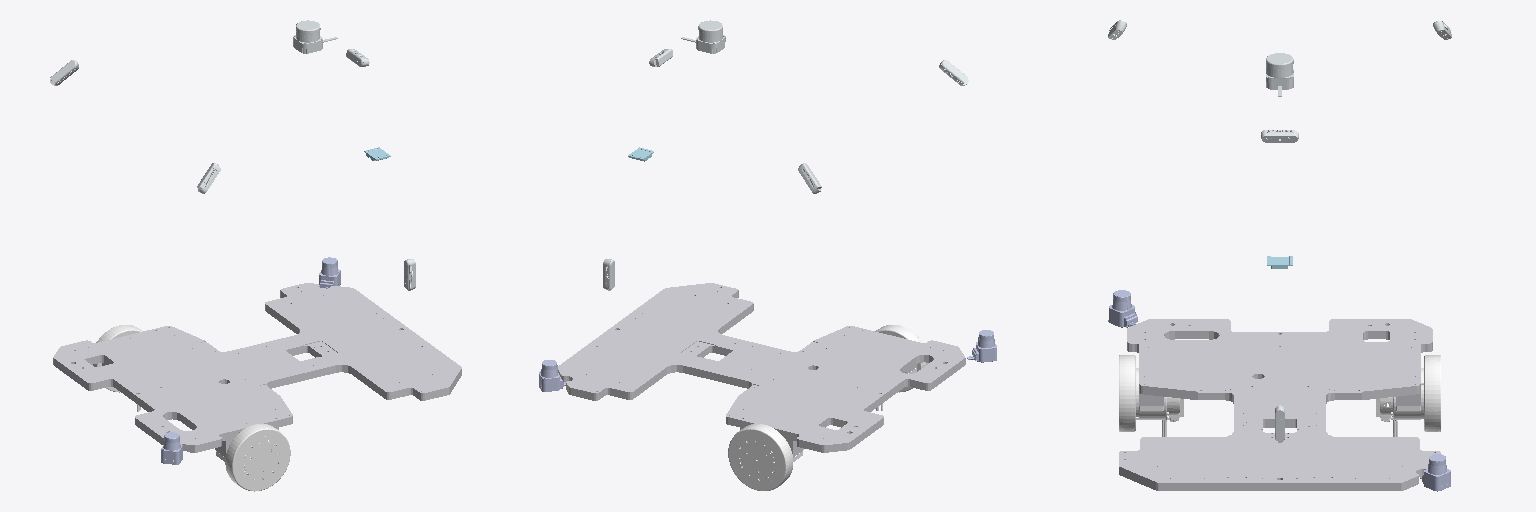
URDF robot description (clean_robot):
<?xml version="1.0" encoding="utf-8"?>
<!-- This URDF was automatically created by SolidWorks to URDF Exporter! Originally created by Stephen Brawner (brawner@gmail.com) 
     Commit Version: 1.5.1-0-g916b5db  Build Version: 1.5.7152.31018
     For more information, please see http://wiki.ros.org/sw_urdf_exporter -->
<robot name="clean_robot">
  <link name="base_footprint">
  </link>
  <joint name="base_footprint_joint" type="fixed">
    <parent link="base_footprint"/>
    <child link="base_link"/>
  </joint>
  <link name="rotateCentral">
  </link>
  <joint name="rotateCentral_joint" type="fixed">
    <origin xyz="-0.21 0 -0.057" rpy="0 0 0" />
    <axis xyz="0 1 0" />
    <parent link="base_link"/>
    <child link="rotateCentral"/>
  </joint>
  <link name="base_link">
    <inertial>
      <origin xyz="0.00240726108493841 0.000418202039983564 0.00979407155909989" rpy="0 0 0" />
      <mass value="28.1386020223436" />
      <inertia ixx="1.02468969743477" ixy="0.0158941047042103" ixz="-0.00370358705210533" iyy="2.18751601311466" iyz="-2.28678674738598E-05" izz="3.20778172827221" />
    </inertial>
    <visual>
      <origin xyz="0 0 0" rpy="0 0 0" />
      <geometry>
        <mesh filename="package://clean_robot_urdf/meshes/base_link.STL" />
      </geometry>
      <material name="">
        <color rgba="0.866666666666667 0.866666666666667 0.890196078431372 1" />
      </material>
    </visual>
    <collision>
      <origin xyz="0 0 0" rpy="0 0 0" />
      <geometry>
        <mesh filename="package://clean_robot_urdf/meshes/base_link.STL" />
      </geometry>
    </collision>
  </link>
  <link name="left_wheel_link">
    <inertial>
      <origin xyz="-4.0925E-05 -0.023024 -0.00050223" rpy="0 0 0" />
      <mass value="1.0564" />
      <inertia ixx="0.0039835" ixy="-2.5313E-06" ixz="-2.7501E-06" iyy="0.004638" iyz="-3.3138E-05" izz="0.0041315" />
    </inertial>
    <visual>
      <origin xyz="0 0 0" rpy="0 0 0" />
      <geometry>
        <mesh filename="package://clean_robot_urdf/meshes/left_wheel.STL" />
      </geometry>
      <material name="">
        <color rgba="1 1 1 1" />
      </material>
    </visual>
    <collision>
      <origin xyz="0 0 0" rpy="0 0 0" />
      <geometry>
        <mesh filename="package://clean_robot_urdf/meshes/left_wheel.STL" />
      </geometry>
    </collision>
  </link>
  <joint name="left_wheel_joint" type="continuous">
    <origin xyz="-0.21 0.35525 -0.057" rpy="0 0 0" />
    <parent link="base_link" />
    <child link="left_wheel_link" />
    <axis xyz="0 1 0" />
    <limit lower="-3.14" upper="3.14" effort="100" velocity="1" />
  </joint>
  <link name="right_wheel_link">
    <inertial>
      <origin xyz="4.0925E-05 0.023024 -0.00050223" rpy="0 0 0" />
      <mass value="1.0564" />
      <inertia ixx="0.0039835" ixy="-2.5313E-06" ixz="2.7501E-06" iyy="0.004638" iyz="3.3138E-05" izz="0.0041315" />
    </inertial>
    <visual>
      <origin xyz="0 0 0" rpy="0 0 0" />
      <geometry>
        <mesh filename="package://clean_robot_urdf/meshes/right_wheel.STL" />
      </geometry>
      <material name="">
        <color rgba="1 1 1 1" />
      </material>
    </visual>
    <collision>
      <origin xyz="0 0 0" rpy="0 0 0" />
      <geometry>
        <mesh filename="package://clean_robot_urdf/meshes/right_wheel.STL" />
      </geometry>
    </collision>
  </link>
  <joint name="right_wheel_joint" type="continuous">
    <origin xyz="-0.21 -0.35525 -0.057" rpy="0 0 0" />
    <parent link="base_link" />
    <child link="right_wheel_link" />
    <axis xyz="0 1 0" />
    <limit lower="-3.14" upper="3.14" effort="100" velocity="1" />
  </joint>
  <link name="gyro_link">
    <inertial>
      <origin xyz="3.1965E-05 -1.3878E-17 0.0060316" rpy="0 0 0" />
      <mass value="0.02361" />
      <inertia ixx="5.4191E-06" ixy="5.5519E-21" ixz="1.8141E-09" iyy="4.3874E-06" iyz="7.0038E-21" izz="9.3231E-06" />
    </inertial>
    <visual>
      <origin xyz="0 0 0" rpy="0 0 0" />
      <geometry>
        <mesh filename="package://clean_robot_urdf/meshes/gyro.STL" />
      </geometry>
      <material name="">
        <color rgba="0.74118 0.90196 0.95686 1" />
      </material>
    </visual>
    <collision>
      <origin xyz="0 0 0" rpy="0 0 0" />
      <geometry>
        <mesh filename="package://clean_robot_urdf/meshes/gyro.STL" />
      </geometry>
    </collision>
  </link>
  <joint name="gyro_joint" type="fixed"> 
    <!-- <origin xyz="0.09075 0.234 0.5377" rpy="0 0 0" /> -->
    <!-- <origin xyz="0.09075 0.234 0.5377" rpy="0 0 1.5708" /> -->
    <origin xyz="0.358 0 0.5377" rpy="0 0 0" />
    <!-- <origin xyz="0 0 0" rpy="0 0 1.5708" /> -->
     <!-- <origin xyz="0 0 0" rpy="0 0 3.14" /> -->
    <parent link="base_link" /> 
    <child link="gyro_link" />
    <axis xyz="0 0 0" /> 
    <limit lower="-3.14" upper="3.14" effort="100" velocity="1" />
  </joint>
  <link name="front_laser">
    <inertial>
      <origin xyz="-0.550525948072943 0.0400079398991852 0.235547624375764" rpy="0 0 0" />
      <mass value="292.649704989435" />
      <inertia ixx="44.0373395468623" ixy="2.81633498450796" ixz="1.66357751279977" iyy="43.7828032777511" iyz="-2.18059444316504" izz="37.7889157054444" />
    </inertial>
    <visual>
      <origin xyz="0 0 0" rpy="0 0 0" />
      <geometry>
        <mesh filename="package://clean_robot_urdf/meshes/front_laser.STL" />
      </geometry>
      <material name="">
        <color rgba="0.792156862745098 0.819607843137255 0.933333333333333 1" />
      </material>
    </visual>
    <collision>
      <origin xyz="0 0 0" rpy="0 0 0" />
      <geometry>
        <mesh filename="package://clean_robot_urdf/meshes/front_laser.STL" />
      </geometry>
    </collision>
  </link>
  <joint name="front_laser" type="fixed">
    <origin xyz="0.42468 0.36619 0.0495" rpy="0 0 0.7854" />
    <parent link="base_link" />
    <child link="front_laser" />
    <axis xyz="0 0 0" />
    <limit lower="-3.14" upper="3.14" effort="100" velocity="1" />
  </joint>
  <link name="back_laser">
    <inertial>
      <origin xyz="-0.606063155895012 0.0792949530645376 0.235547624375765" rpy="0 0 0" />
      <mass value="292.649704989435" />
      <inertia ixx="44.0373395468623" ixy="2.81633498450796" ixz="-1.66357751279979" iyy="43.7828032777511" iyz="2.18059444316503" izz="37.7889157054444" />
    </inertial>
    <visual>
      <origin xyz="0 0 0" rpy="0 0 0" />
      <geometry>
        <mesh filename="package://clean_robot_urdf/meshes/back_laser.STL" />
      </geometry>
      <material name="">
        <color rgba="0.792156862745098 0.819607843137255 0.933333333333333 1" />
      </material>
    </visual>
    <collision>
      <origin xyz="0 0 0" rpy="0 0 0" />
      <geometry>
        <mesh filename="package://clean_robot_urdf/meshes/back_laser.STL" />
      </geometry>
    </collision>
  </link>
  <joint name="back_laser" type="fixed">
    <origin xyz="-0.47752 -0.36729 0.0495" rpy="0 0 -2.3562" />
    <parent link="base_link" />
    <child link="back_laser" />
    <axis xyz="0 0 0" />
    <limit lower="-3.14" upper="3.14" effort="100" velocity="1" />
  </joint>
  <link name="left_camera">
    <inertial>
      <origin xyz="-0.0141516366925666 -3.26056080095505E-05 0.00213468650215209" rpy="0 0 0" />
      <mass value="0.0330606537395875" />
      <inertia ixx="2.18493760077461E-05" ixy="-6.17717819624996E-09" ixz="1.25370444127801E-07" iyy="2.18264141606428E-05" iyz="-1.50421742192633E-09" izz="3.29669338756779E-06" />
    </inertial>
    <visual>
      <origin xyz="0 0 0" rpy="0 0 0" />
      <geometry>
        <mesh filename="package://clean_robot_urdf/meshes/left_camera.STL" />
      </geometry>
      <material name="">
        <color rgba="0.898039215686275 0.917647058823529 0.929411764705882 1" />
      </material>
    </visual>
    <collision>
      <origin xyz="0 0 0" rpy="0 0 0" />
      <geometry>
        <mesh filename="package://clean_robot_urdf/meshes/left_camera.STL" />
      </geometry>
    </collision>
  </link>
  <joint name="left_camera" type="fixed">
    <origin xyz="-0.36459 0.38251 0.79049" rpy="0.59889 0.72678 0.47536" />
    <parent link="base_link" />
    <child link="left_camera" />
    <axis xyz="0 0 0" />
    <limit lower="-3.14" upper="3.14" effort="100" velocity="1" />
  </joint>
  <link name="right_camera">
    <inertial>
      <origin xyz="-0.0141516361666065 -3.26036350821735E-05 0.00213466768908482" rpy="0 0 0" />
      <mass value="0.0330606483873418" />
      <inertia ixx="2.18493477974992E-05" ixy="-6.17679741189438E-09" ixz="1.25366332467947E-07" iyy="2.18263835224402E-05" iyz="-1.50439378133062E-09" izz="3.29669552730337E-06" />
    </inertial>
    <visual>
      <origin xyz="0 0 0" rpy="0 0 0" />
      <geometry>
        <mesh filename="package://clean_robot_urdf/meshes/right_camera.STL" />
      </geometry>
      <material name="">
        <color rgba="0.898039215686275 0.917647058823529 0.929411764705882 1" />
      </material>
    </visual>
    <collision>
      <origin xyz="0 0 0" rpy="0 0 0" />
      <geometry>
        <mesh filename="package://clean_robot_urdf/meshes/right_camera.STL" />
      </geometry>
    </collision>
  </link>
  <joint name="right_camera" type="fixed">
    <origin xyz="-0.36449 -0.38247 0.79057" rpy="-0.59889 0.72678 -0.47536" />
    <parent link="base_link" />
    <child link="right_camera" />
    <axis xyz="0 0 0" />
    <limit lower="-3.14" upper="3.14" effort="100" velocity="1" />
  </joint>
  <link name="up_camera">
    <inertial>
      <origin xyz="-0.0141516243722175 -3.26096145666366E-05 0.00213464076433513" rpy="0 0 0" />
      <mass value="0.0330606354180295" />
      <inertia ixx="2.1849341566882E-05" ixy="-6.17921287204605E-09" ixz="1.25356970547292E-07" iyy="2.18263739734521E-05" iyz="-1.49626199314348E-09" izz="3.29669412757788E-06" />
    </inertial>
    <visual>
      <origin xyz="0 0 0" rpy="0 0 0" />
      <geometry>
        <mesh filename="package://clean_robot_urdf/meshes/up_camera.STL" />
      </geometry>
      <material name="">
        <color rgba="0.898039215686275 0.917647058823529 0.929411764705882 1" />
      </material>
    </visual>
    <collision>
      <origin xyz="0 0 0" rpy="0 0 0" />
      <geometry>
        <mesh filename="package://clean_robot_urdf/meshes/up_camera.STL" />
      </geometry>
    </collision>
  </link>
  <joint name="up_camera" type="fixed">
    <origin xyz="0.30874 0 0.83696" rpy="1.5708 0.20944 0" />
    <parent link="base_link" />
    <child link="up_camera" />
    <axis xyz="0 0 0" />
    <limit lower="-3.14" upper="3.14" effort="100" velocity="1" />
  </joint>
  <link name="down_camera">
    <inertial>
      <origin xyz="-0.0141516246150703 -3.2608990155269E-05 0.00213463913380307" rpy="0 0 0" />
      <mass value="0.0330606407134946" />
      <inertia ixx="2.18493246164614E-05" ixy="-6.1789784629534E-09" ixz="1.25354729142066E-07" iyy="2.18263555001382E-05" iyz="-1.49709330581095E-09" izz="3.29669547205362E-06" />
    </inertial>
    <visual>
      <origin xyz="0 0 0" rpy="0 0 0" />
      <geometry>
        <mesh filename="package://clean_robot_urdf/meshes/down_camera.STL" />
      </geometry>
      <material name="">
        <color rgba="0.898039215686275 0.917647058823529 0.929411764705882 1" />
      </material>
    </visual>
    <collision>
      <origin xyz="0 0 0" rpy="0 0 0" />
      <geometry>
        <mesh filename="package://clean_robot_urdf/meshes/down_camera.STL" />
      </geometry>
    </collision>
  </link>
  <joint name="down_camera" type="fixed">
    <origin xyz="0.468 0 0.17399" rpy="0 0 0" />
    <parent link="base_link" />
    <child link="down_camera" />
    <axis xyz="0 0 0" />
    <limit lower="-3.14" upper="3.14" effort="100" velocity="1" />
  </joint>
  <link name="laser">
    <inertial>
      <origin xyz="4.01377249381607E-07 -0.0004029337120008 -0.0123695383858642" rpy="0 0 0" />
      <mass value="0.231565199535219" />
      <inertia ixx="0.000154249816516349" ixy="3.19274550737147E-09" ixz="1.57803601278125E-09" iyy="0.000148311975446975" iyz="-2.12876270026058E-06" izz="0.000139022675797784" />
    </inertial>
    <visual>
      <origin xyz="0 0 0" rpy="0 0 0" />
      <geometry>
        <mesh filename="package://clean_robot_urdf/meshes/laser.STL" />
      </geometry>
      <material name="">
        <color rgba="0.898039215686275 0.917647058823529 0.929411764705882 1" />
      </material>
    </visual>
    <collision>
      <origin xyz="0 0 0" rpy="0 0 0" />
      <geometry>
        <mesh filename="package://clean_robot_urdf/meshes/laser.STL" />
      </geometry>
    </collision>
  </link>
  <joint name="laser_joint" type="fixed">
    <origin xyz="0.14712 -0.00045106 0.94715" rpy="0 0 1.5708" />
    <parent link="base_link" />
    <child link="laser" />
    <axis xyz="0 0 0" />
    <limit lower="-3.14" upper="3.14" effort="100" velocity="1" />
  </joint>
</robot>

--- What the picture shows (computed from the rendered views, not written in the file) ---
The picture shows the robot from 3 angles, left to right: view 1: azimuth 30°, elevation 25°; view 2: azimuth 150°, elevation 25°; view 3: azimuth 270°, elevation 25°; orthographic projection.
Model clean_robot with 13 links and 12 joints (2 continuous, 10 fixed), rooted at base_footprint, posed all joints at 0.
Links seen in each view (by area): view 1: base_link, right_wheel_link, laser, back_laser, front_laser; view 2: base_link, left_wheel_link, laser, back_laser, front_laser, right_wheel_link; view 3: base_link, right_wheel_link, left_wheel_link, laser, back_laser, front_laser.
Boxes of the visible links, box(x1,y1,x2,y2) form: base_link: box(53, 283, 461, 457); right_wheel_link: box(216, 424, 290, 491); laser: box(293, 20, 337, 53); back_laser: box(161, 432, 182, 464); front_laser: box(319, 257, 340, 288); base_link: box(558, 283, 965, 457); left_wheel_link: box(728, 424, 802, 490); laser: box(681, 20, 725, 53); back_laser: box(967, 330, 996, 362); front_laser: box(539, 360, 565, 391); right_wheel_link: box(875, 325, 928, 410); base_link: box(1119, 319, 1440, 490); right_wheel_link: box(1119, 355, 1183, 436); left_wheel_link: box(1376, 355, 1440, 436); laser: box(1266, 53, 1293, 96); back_laser: box(1108, 290, 1137, 327); front_laser: box(1420, 454, 1450, 491).
Size in the robot's own frame: 0.978 by 0.7993 by 1.14 metres.
Meshes: 11 distinct files referenced, 11 mesh visuals loaded (11 binary STL).
